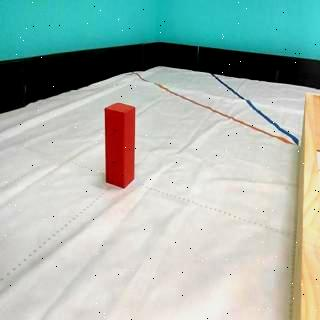redbox: (105, 100, 136, 188)
